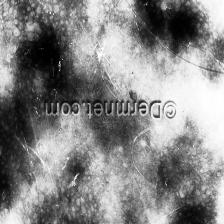Potentially Malignant Skin Tumors: (22, 28, 66, 82)
